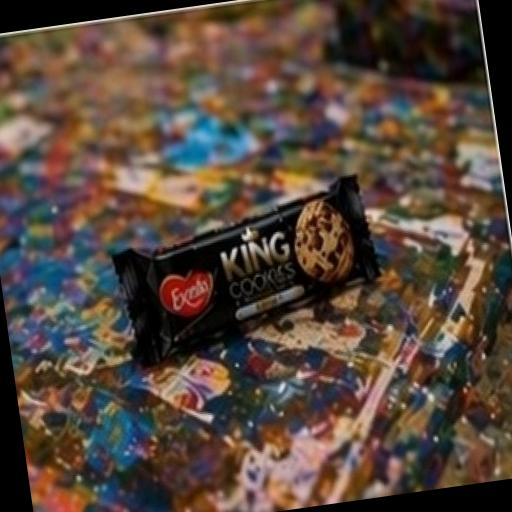king-cooking: (50, 118, 456, 396)
